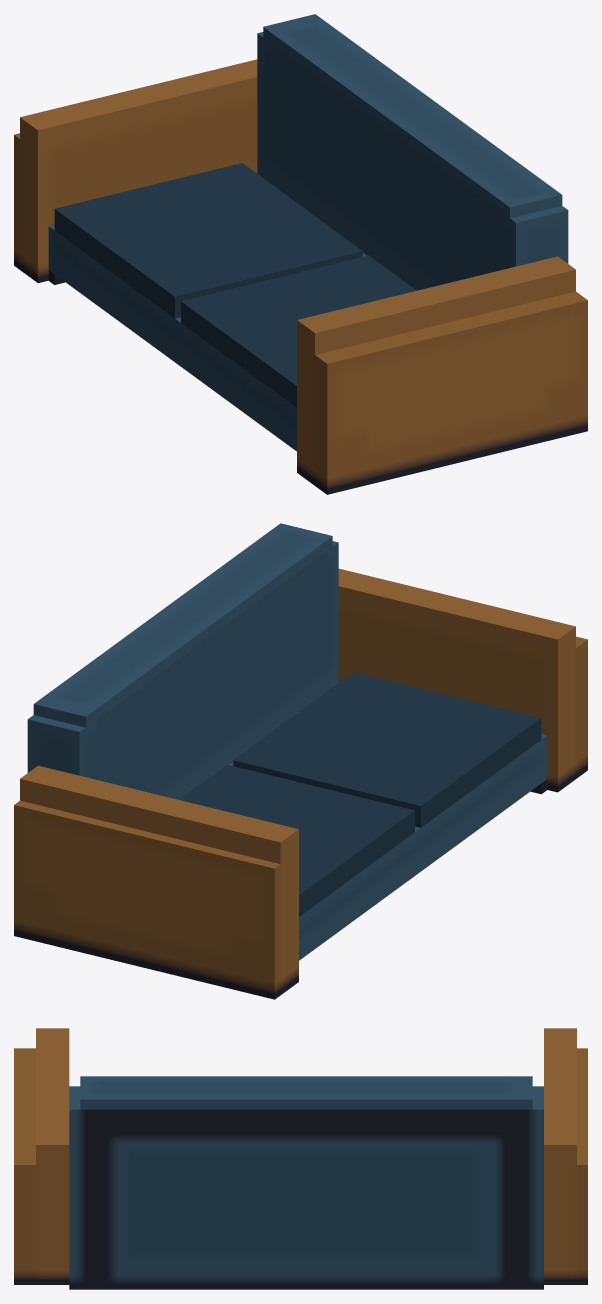
File: couch_double.fbx
3 views of the same model, one above another, from view 1: azimuth 30°, elevation 25°; view 2: azimuth 150°, elevation 25°; view 3: azimuth 270°, elevation 25° (orthographic). The views are drawn at different scales.
Parts seen in each view (by area): view 1: couch_double; view 2: couch_double; view 3: couch_double.
Boxes of the visible parts, x1,y1,x2,y2 form: couch_double: (14, 14, 587, 494); couch_double: (14, 523, 587, 999); couch_double: (14, 1028, 587, 1289).
Size of the model in its own units: 26 by 19 by 52.
